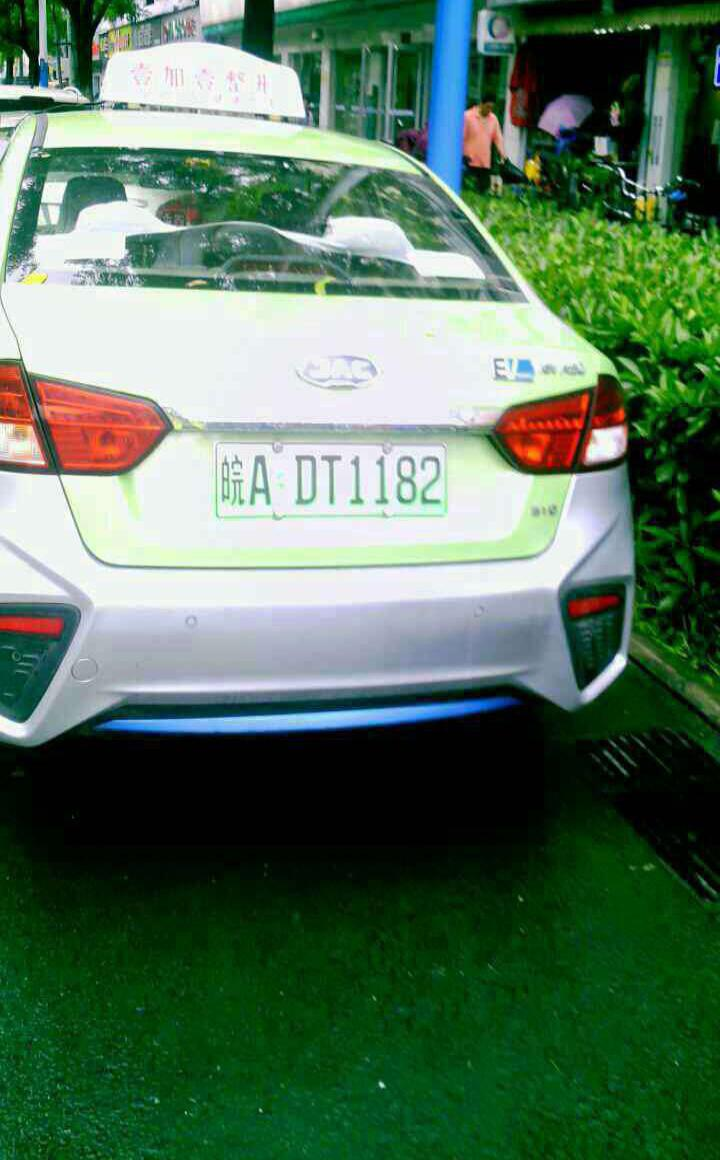car: (199, 442, 463, 523)
